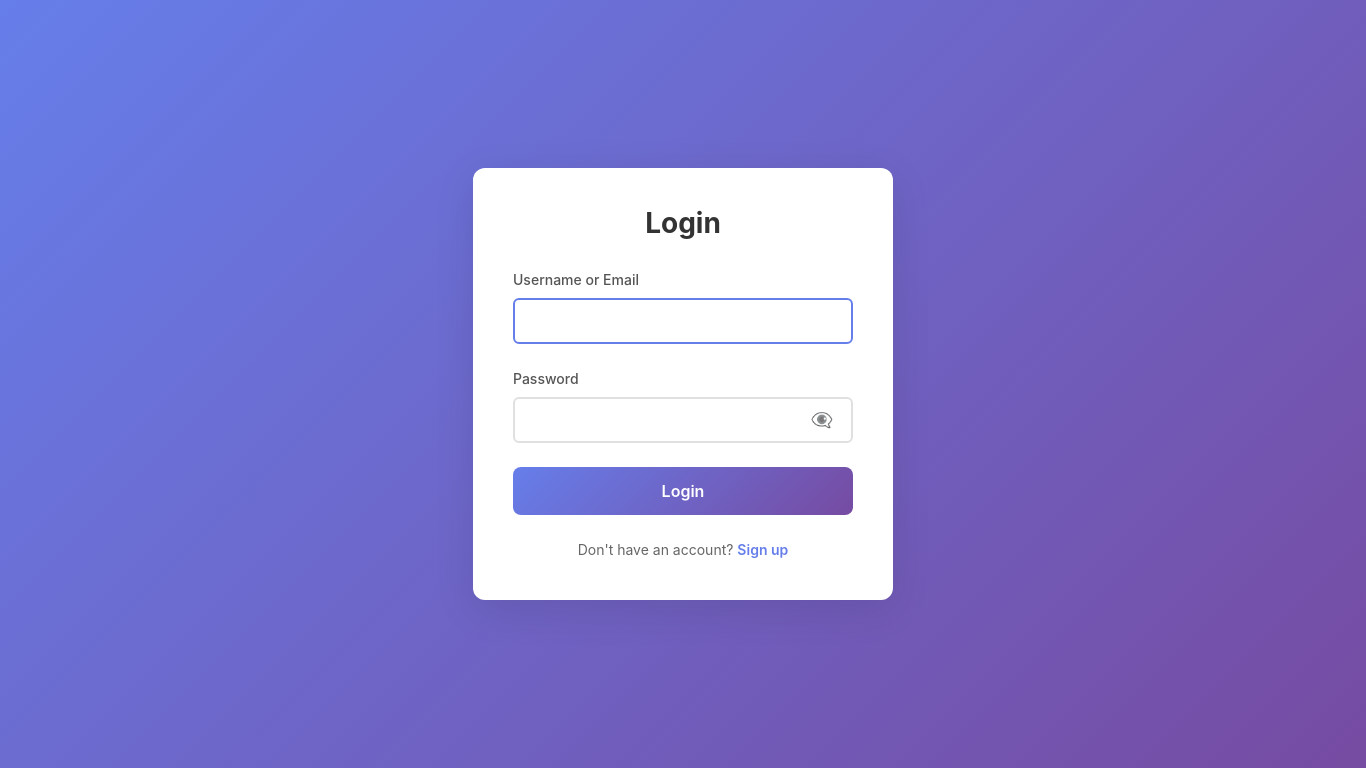
Login Component › Error Handling › displays error message on login failure with detail
The image size is (1366, 768).
Type "wronguser" into the field labelled "Username or Email" at (683, 321), box left=513, top=298, right=853, bottom=344
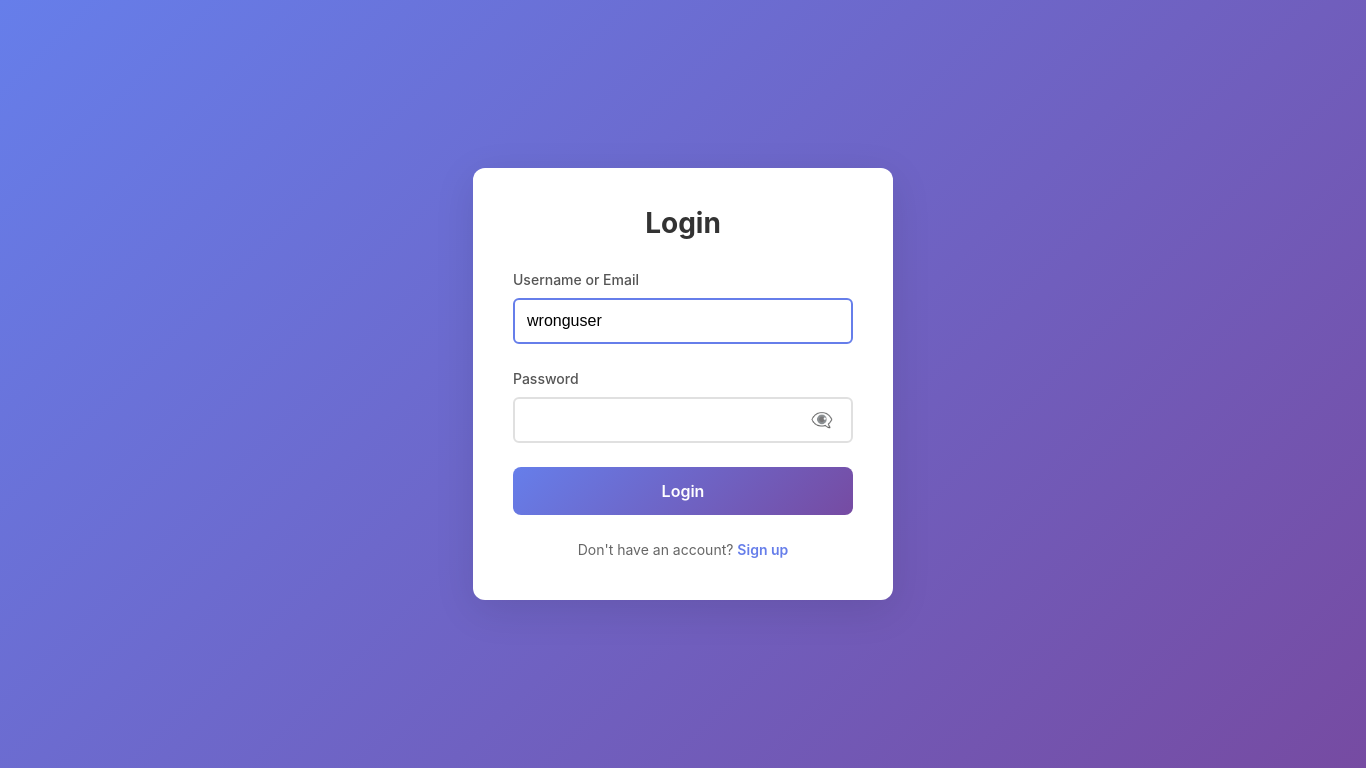
Type "wrongpass" into the password field labelled "Password" at (683, 420), box left=513, top=397, right=853, bottom=443
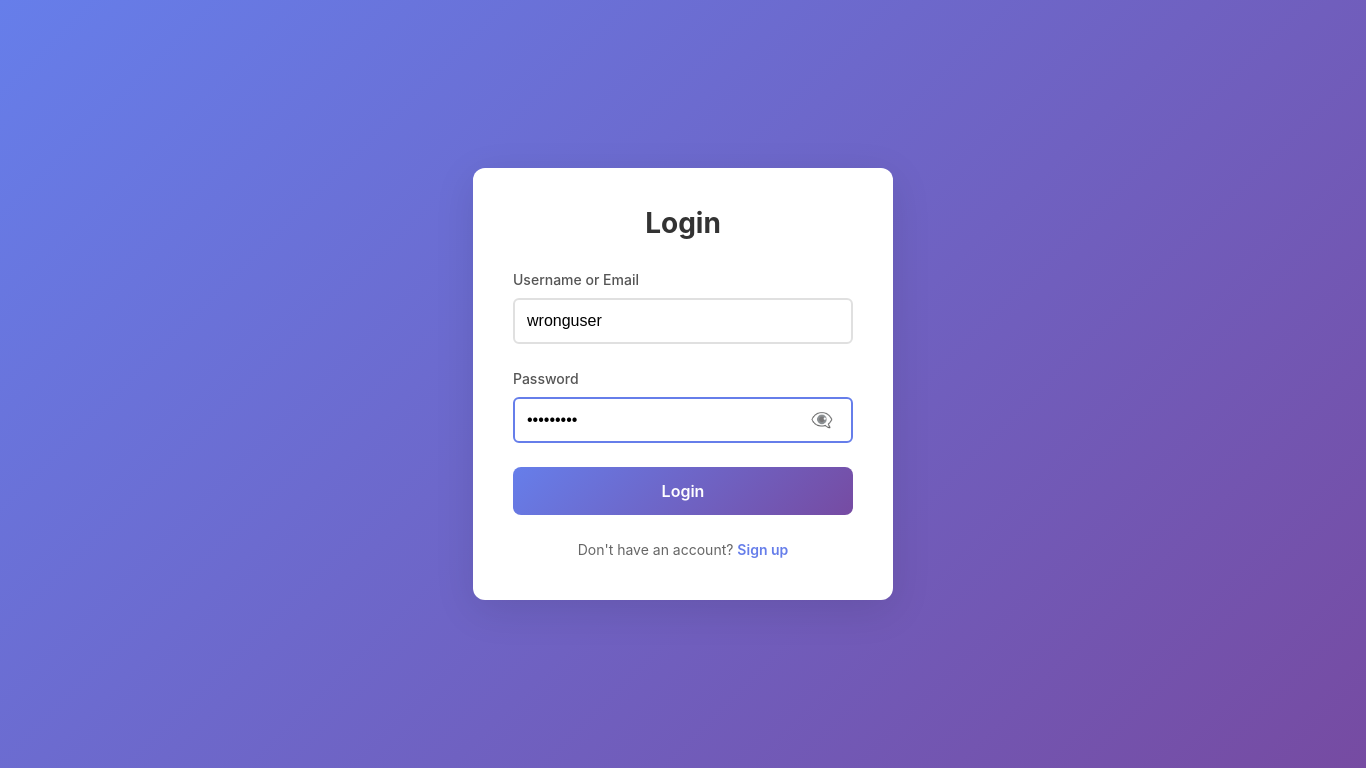
Click the button "Login" at (683, 491), box left=513, top=467, right=853, bottom=515
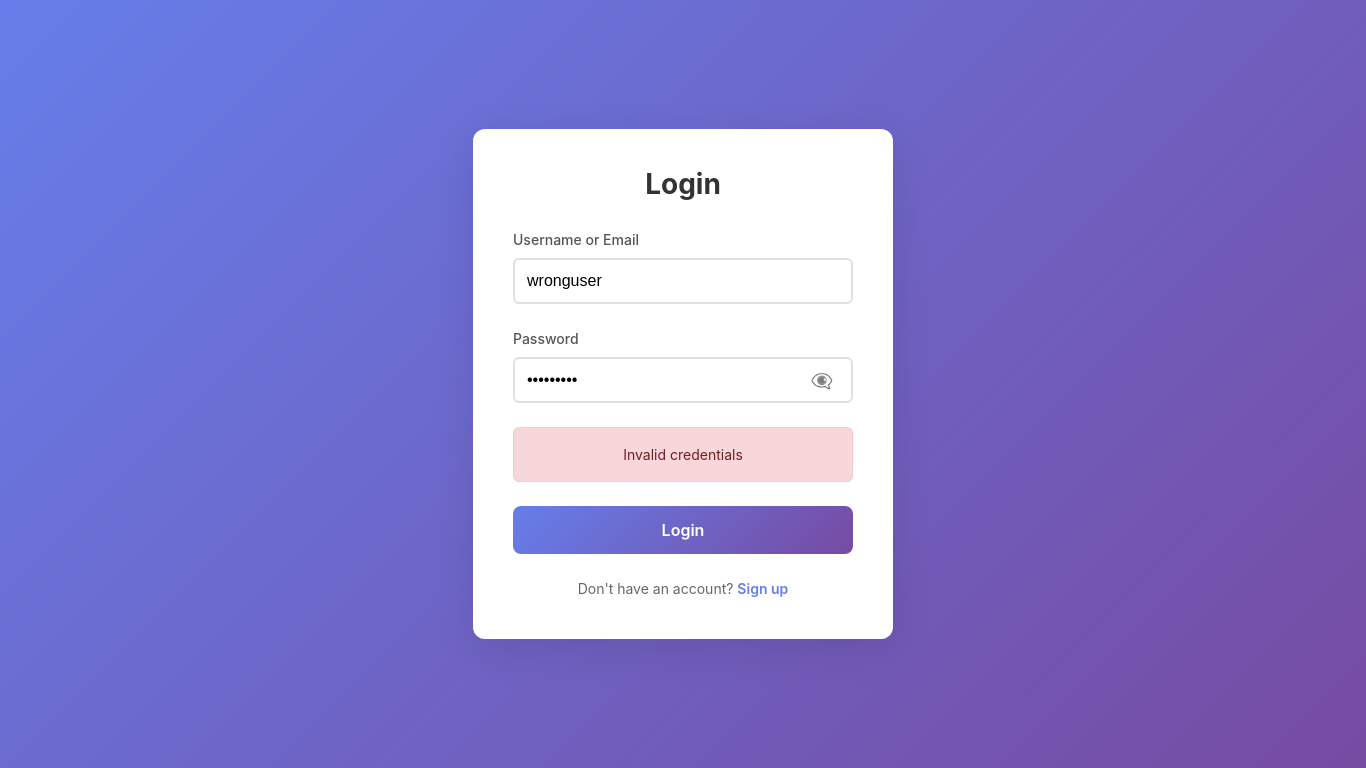
Check: the text "Invalid credentials" is shown, box left=513, top=427, right=853, bottom=482
